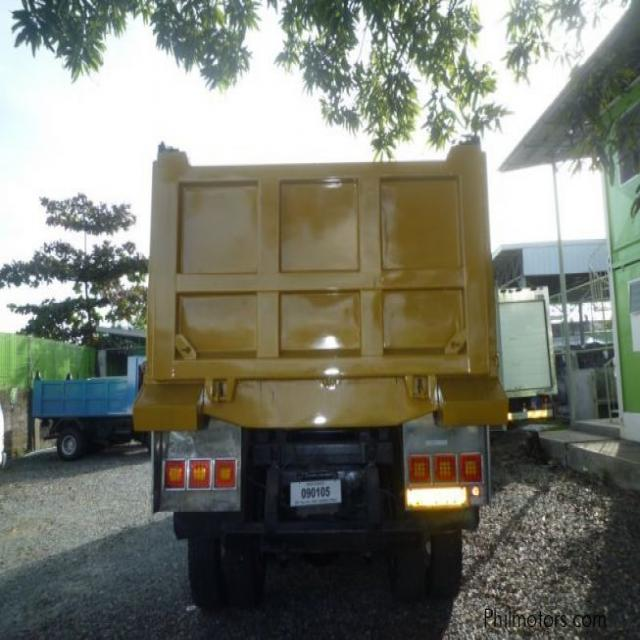truck: (133, 132, 508, 598)
